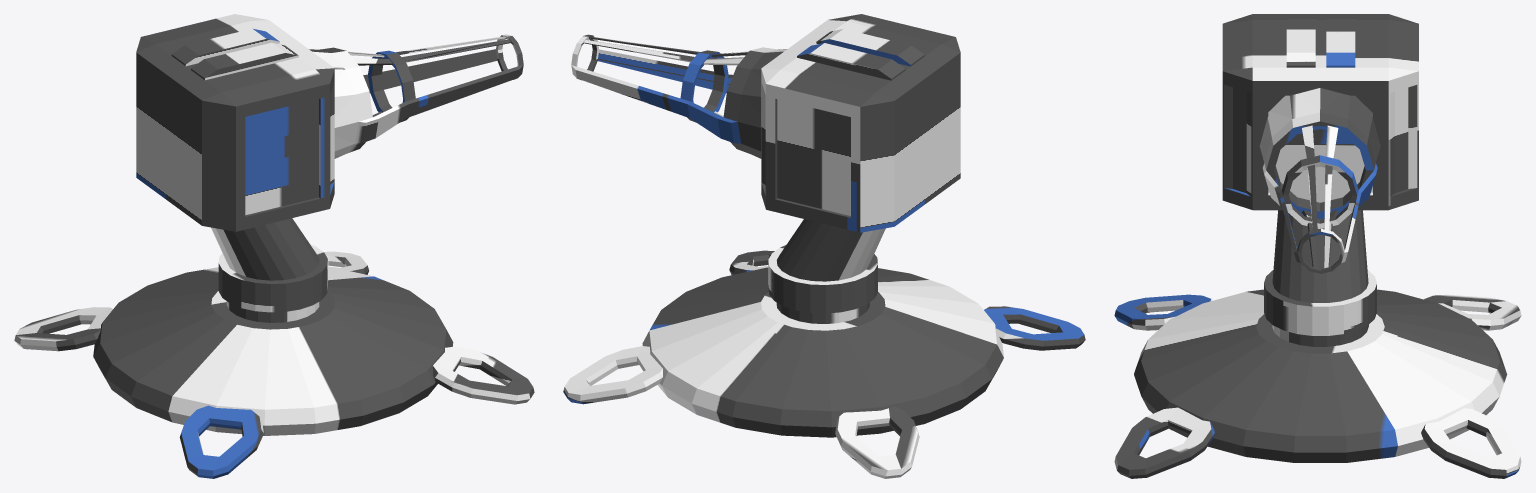
File: Laser.obj
The picture shows the model from 3 angles, left to right: view 1: azimuth 30°, elevation 25°; view 2: azimuth 150°, elevation 25°; view 3: azimuth 270°, elevation 25°; orthographic projection. The views are drawn at different scales.
Parts seen in each view (by area): view 1: Cube.002_Cube.003; view 2: Cube.002_Cube.003; view 3: Cube.002_Cube.003.
Part boxes in pixels (bbox=[...]): Cube.002_Cube.003: bbox=[14, 14, 534, 478]; Cube.002_Cube.003: bbox=[563, 14, 1085, 478]; Cube.002_Cube.003: bbox=[1114, 14, 1521, 478].
Bounding box in the file's own units: 4 × 3.08 × 3.33.
1 material, 1 textured.
